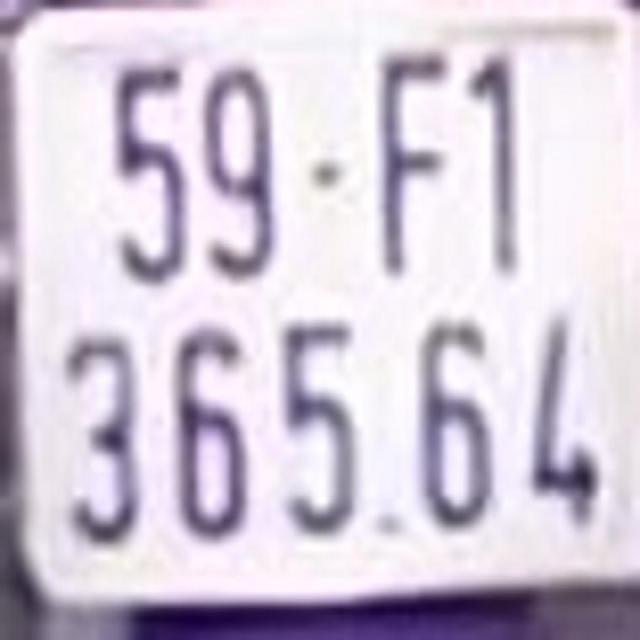1: (464, 42, 524, 276)
3: (60, 328, 144, 543)
4: (520, 300, 612, 526)
5: (274, 312, 360, 532), (108, 63, 190, 288)
6: (410, 307, 497, 527), (164, 315, 248, 536)
9: (198, 54, 278, 286)
F: (372, 44, 450, 282)
